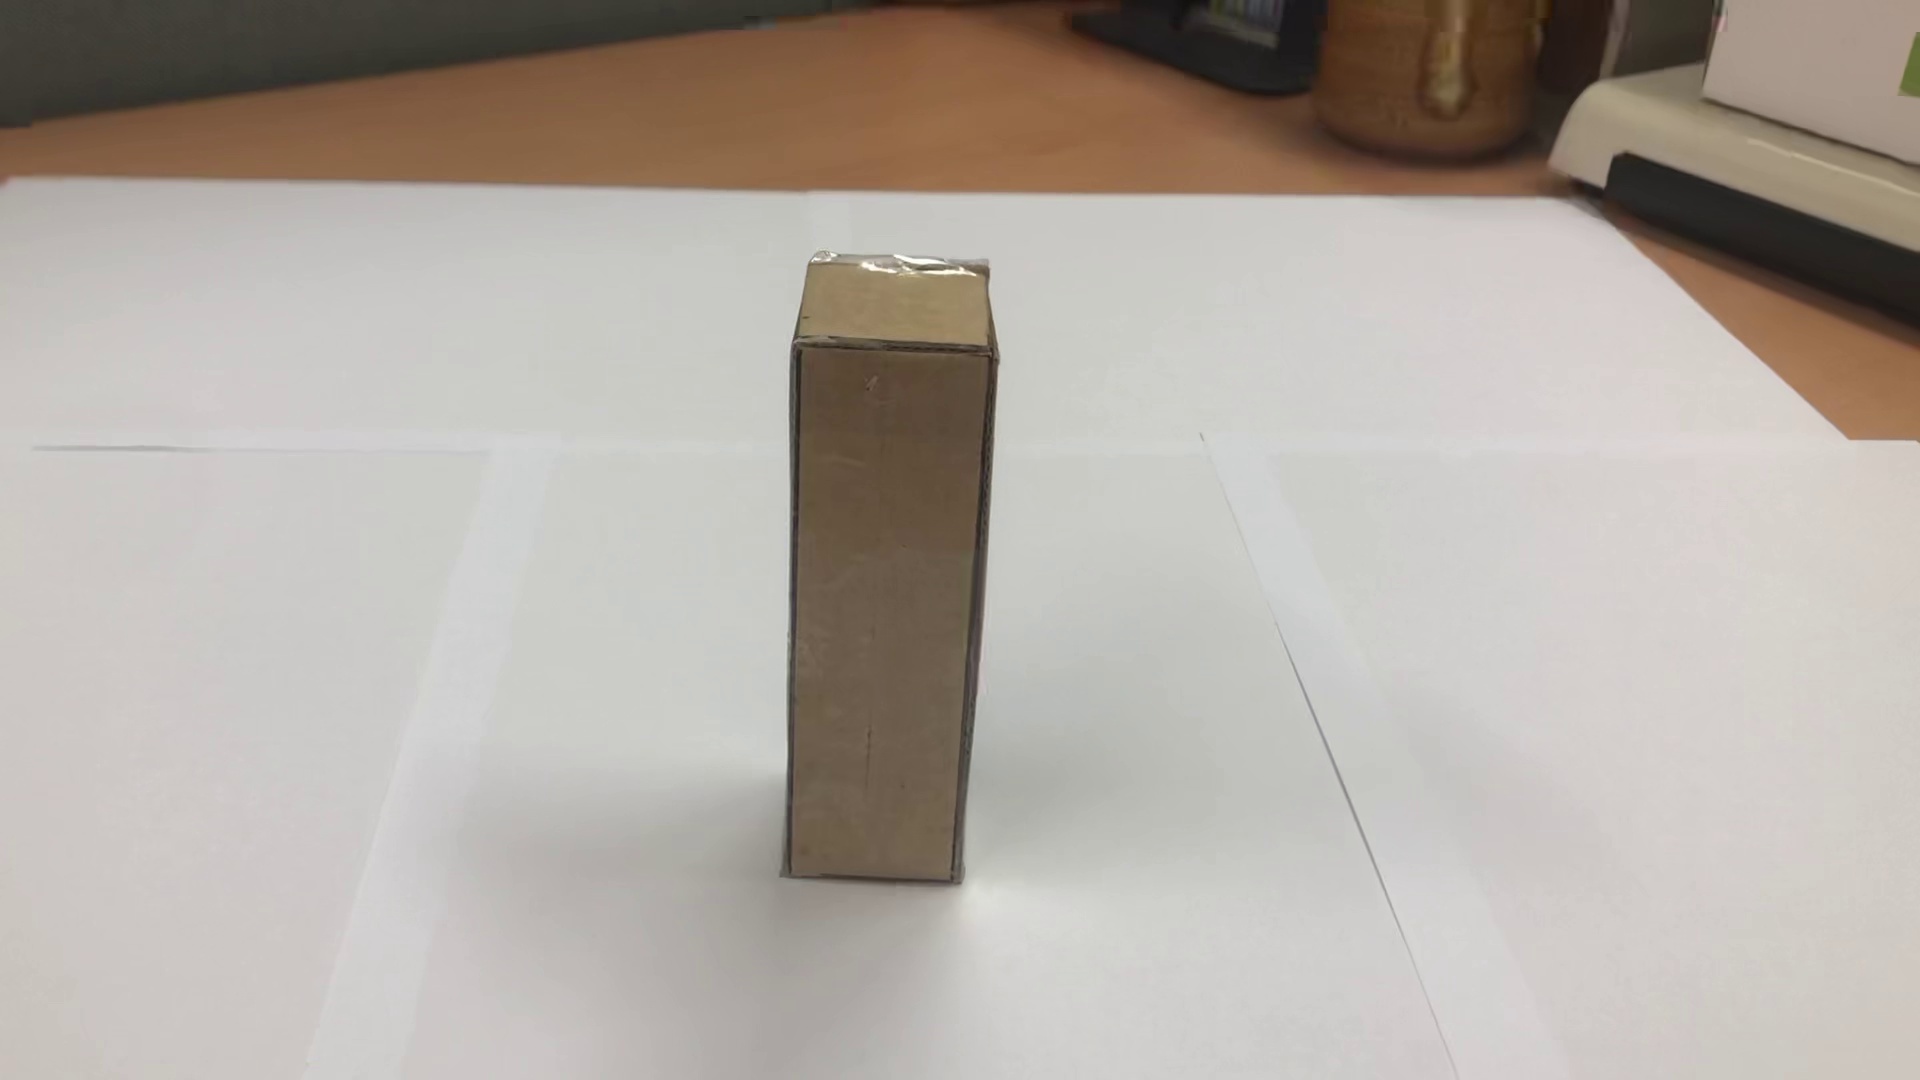box: (735, 235, 1022, 910)
